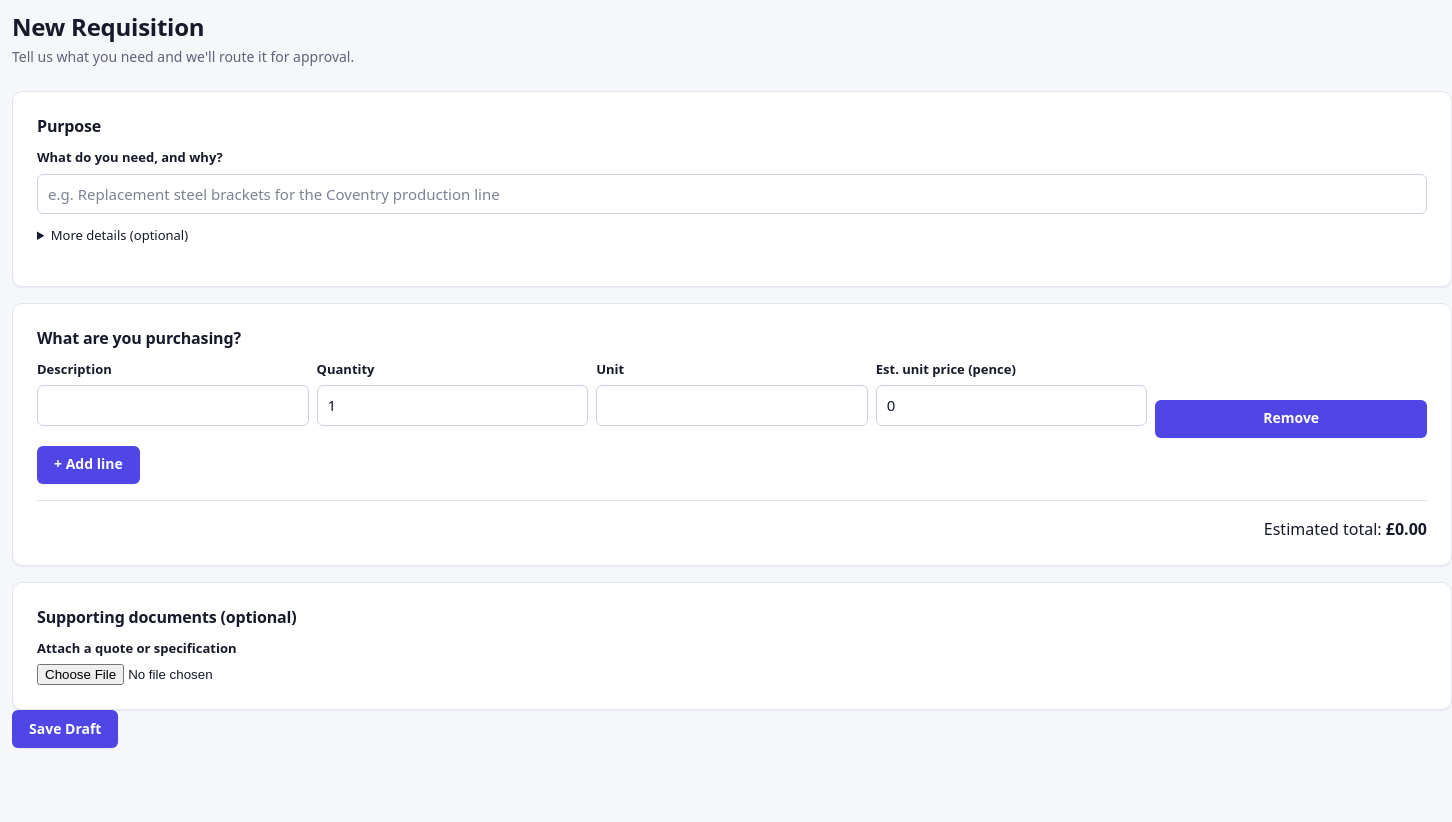
Scenario: NewRequisitionPage (item 6 - the most important screen) › ERROR STATE: a backend failure shows a readable error, not a raw exception
Replace the text in the field labelled "What do you need, and why?" with "Test" at (732, 194), box [37,174,1427,214]
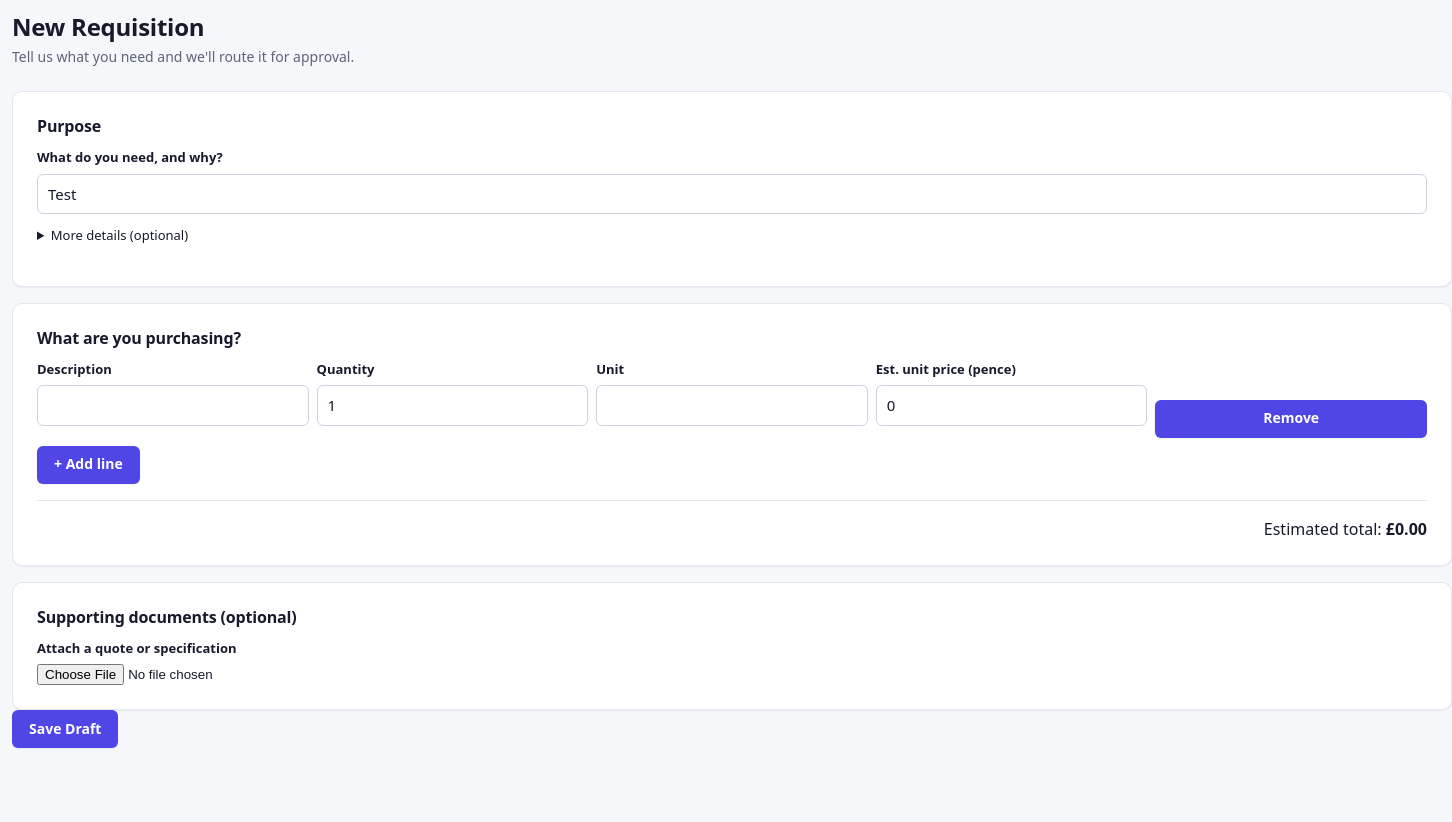
Type "X" into the field named "Line description".
click(173, 405); type("X")  # box [37,385,309,426]
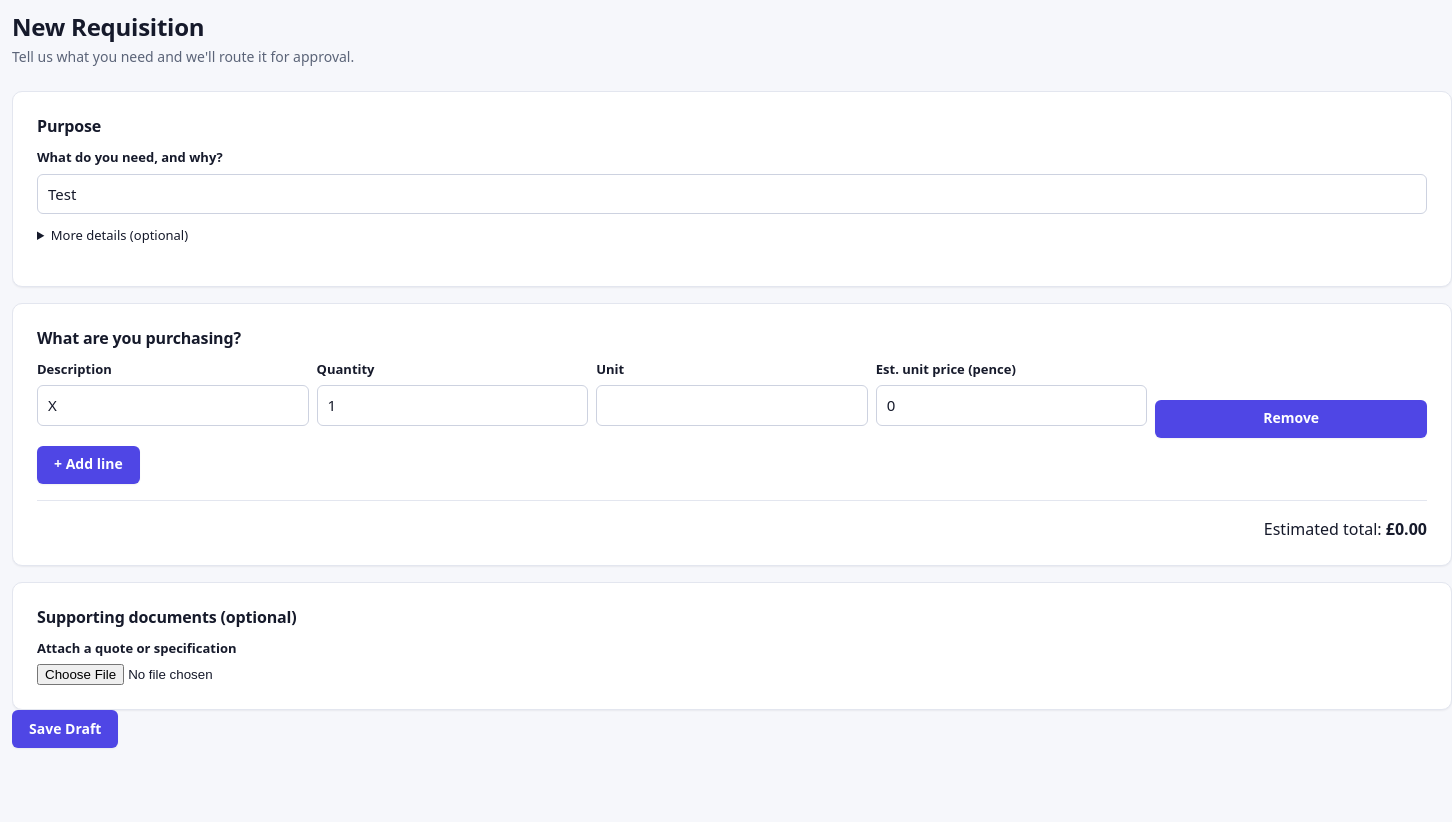
Click the button "Save Draft".
click(65, 729)  # box [12,710,118,748]
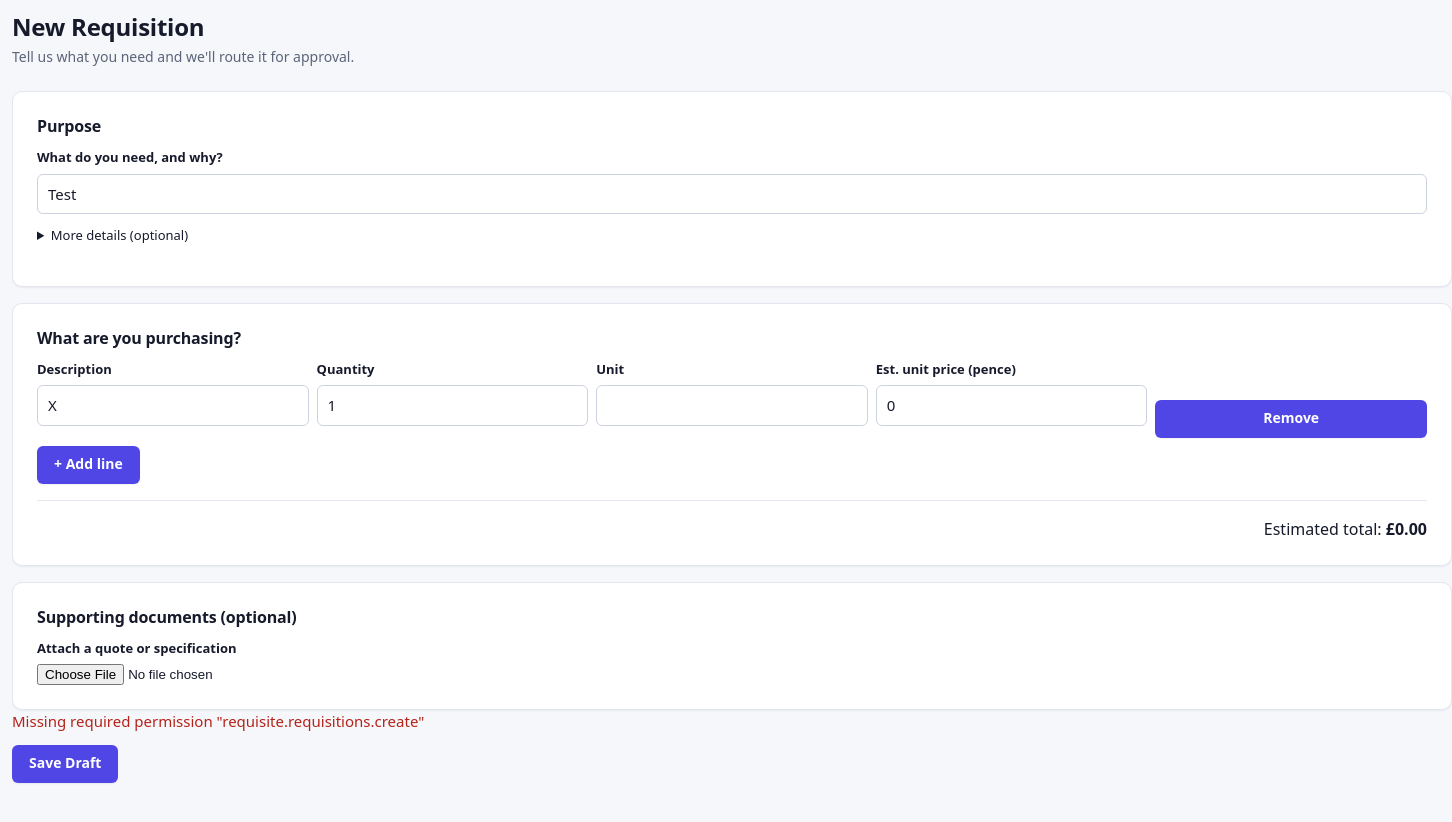
Result: the text "Missing required permission \"requisite.requisitions.create\"" is shown at [12,711,424,731]
